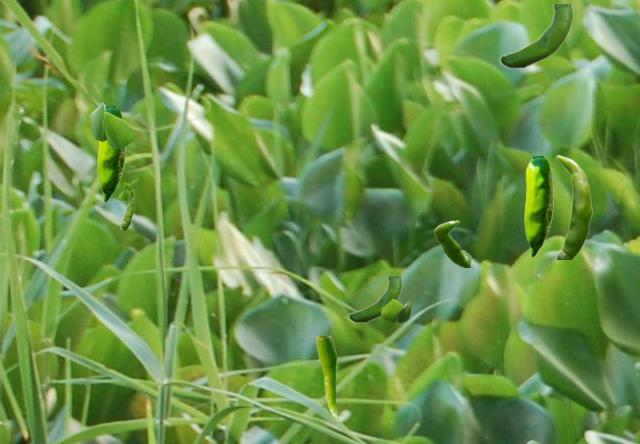green_chili: (499, 4, 572, 68), (555, 154, 592, 258), (524, 156, 552, 256), (97, 106, 124, 201), (348, 276, 401, 322), (316, 336, 337, 418), (434, 220, 470, 266), (120, 190, 133, 229)
